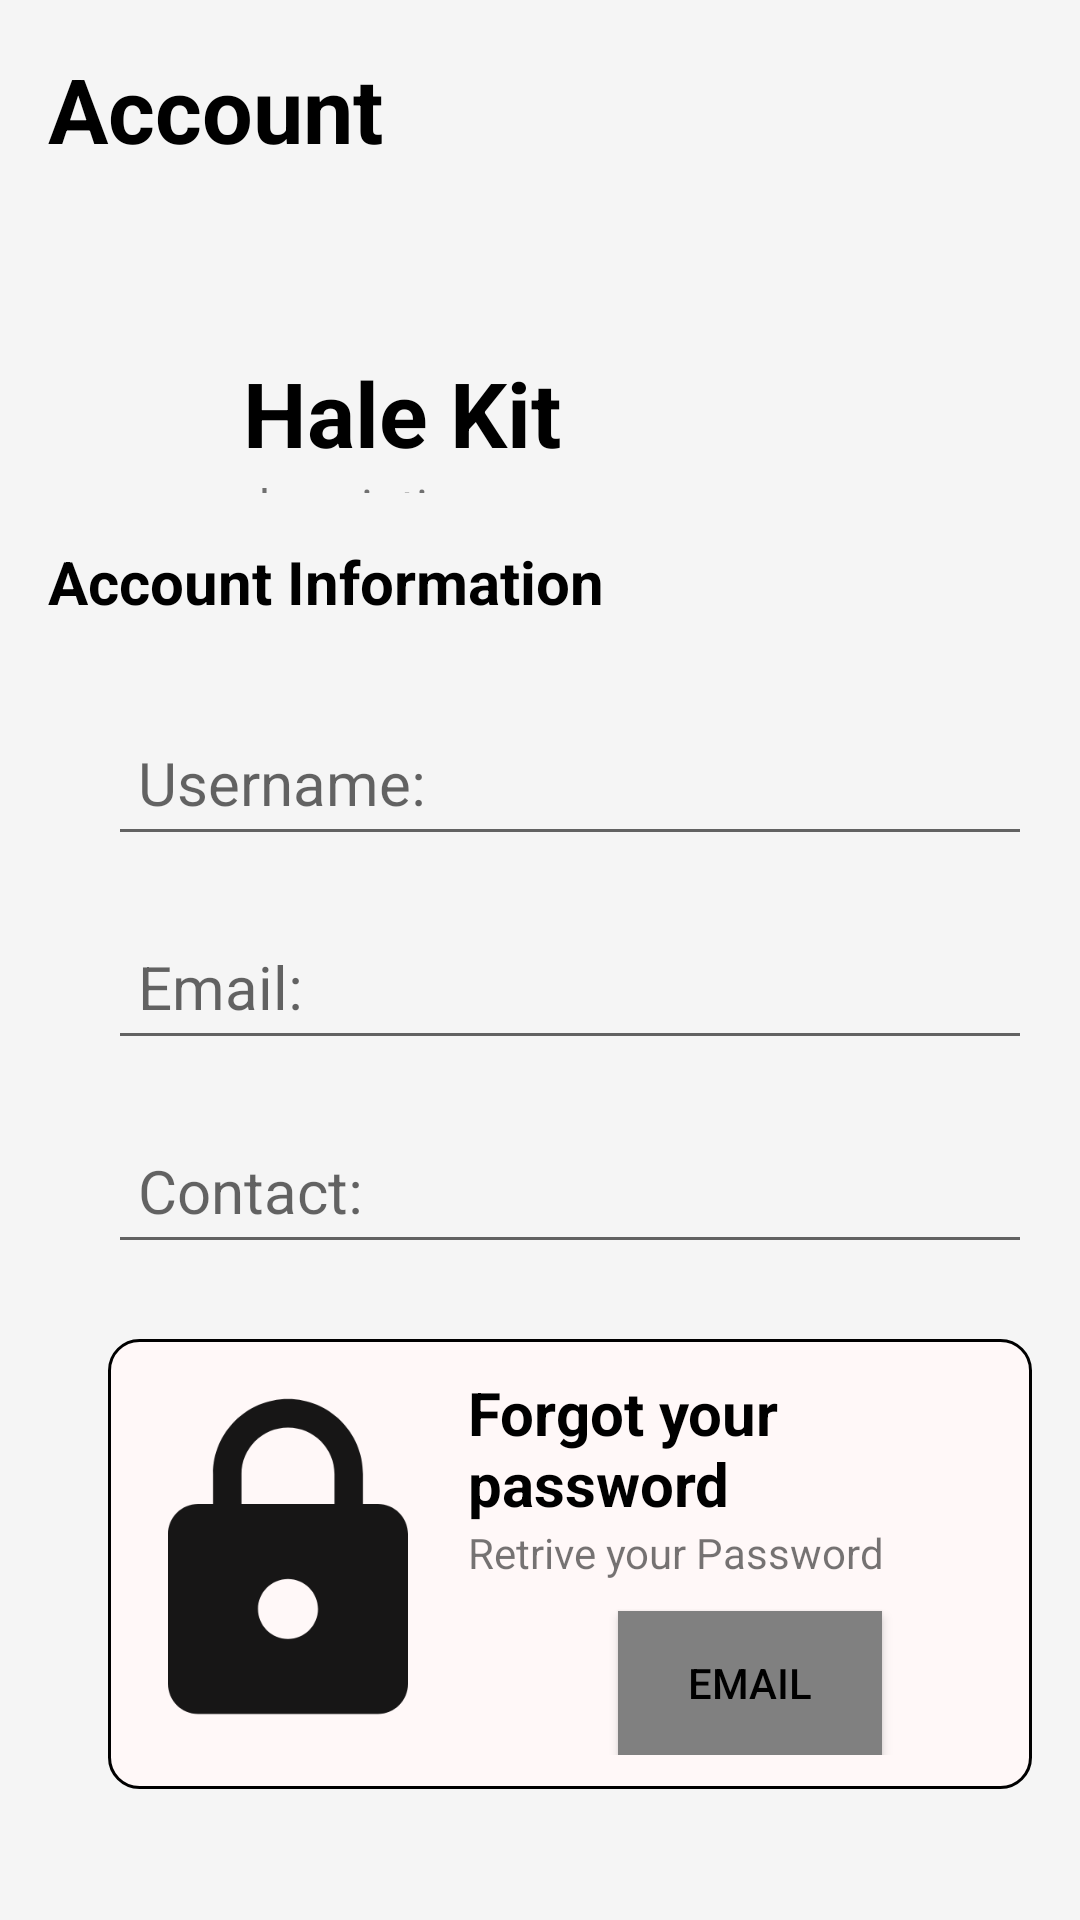

Named icons in this screenshot (1080px x 1920px) and their centers, point (x, y):
lock: point (288, 1556)
